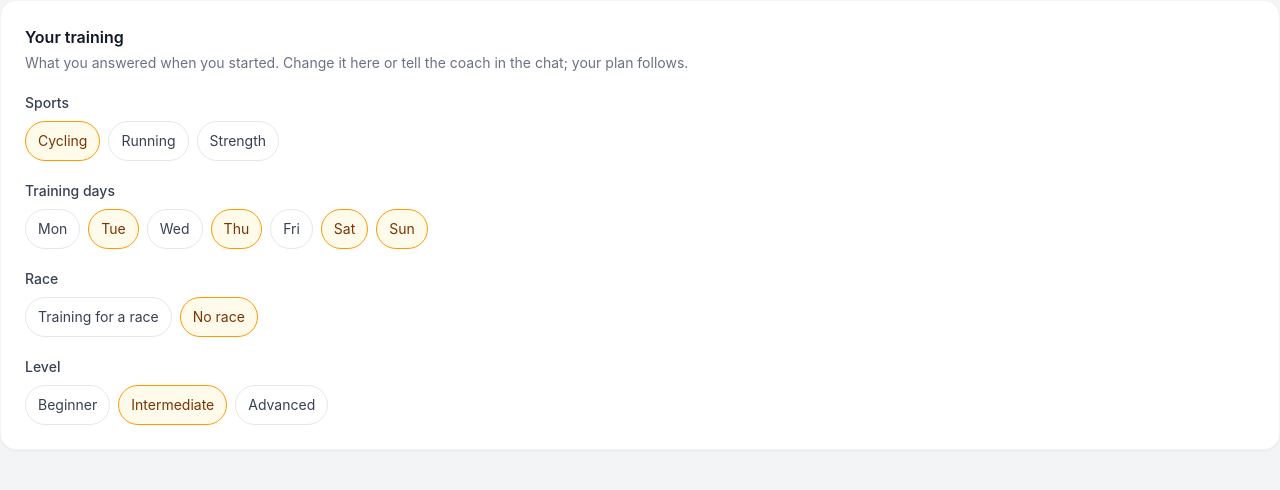
Scenario: TrainingAnswersSettings (ai-trainer-ops#202) › keeps at least one sport
This screenshot has width=1280, height=490.
Click the button "Cycling" at (63, 141), box [25, 121, 100, 161]
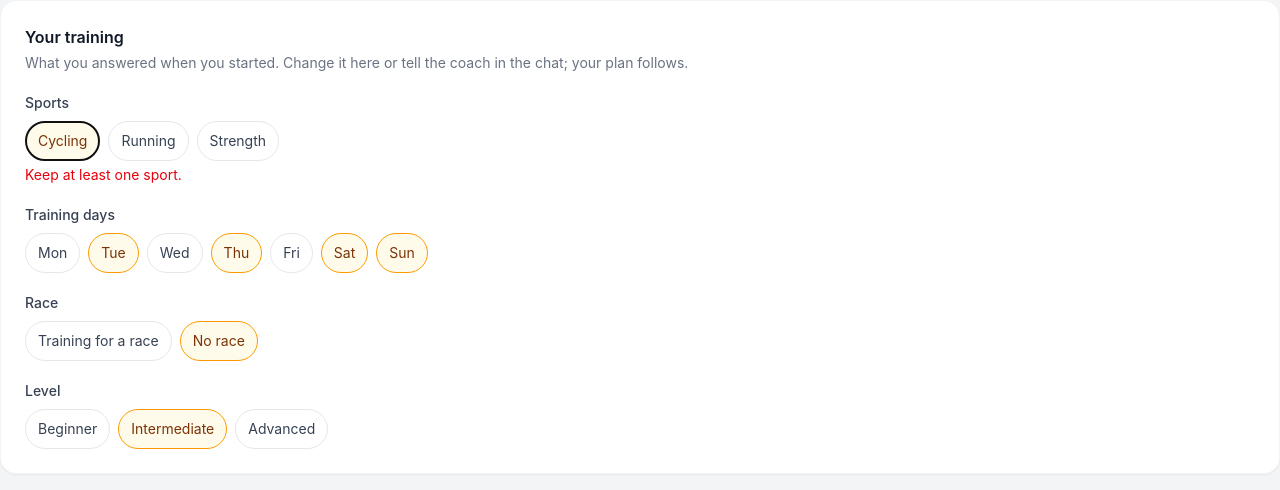
Expected: the message reads "Keep at least one sport.", [25, 166, 182, 183]
